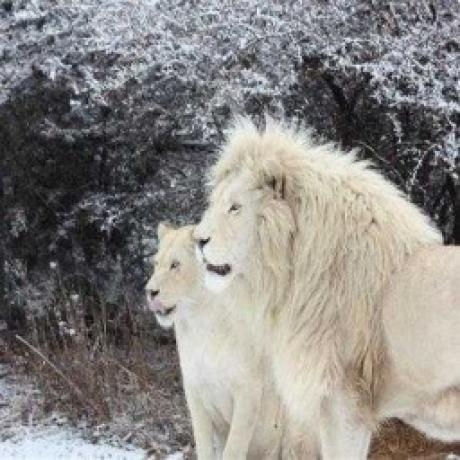Lion: (192, 101, 460, 458), (144, 208, 309, 460)
